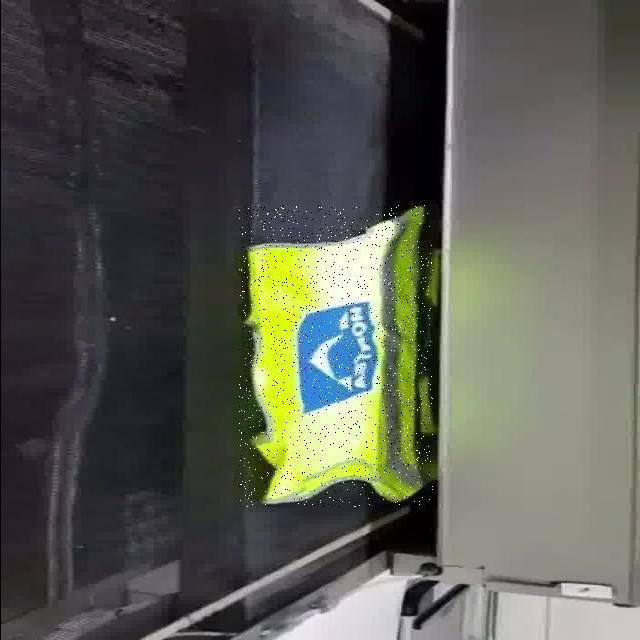vest: (238, 205, 432, 507)
